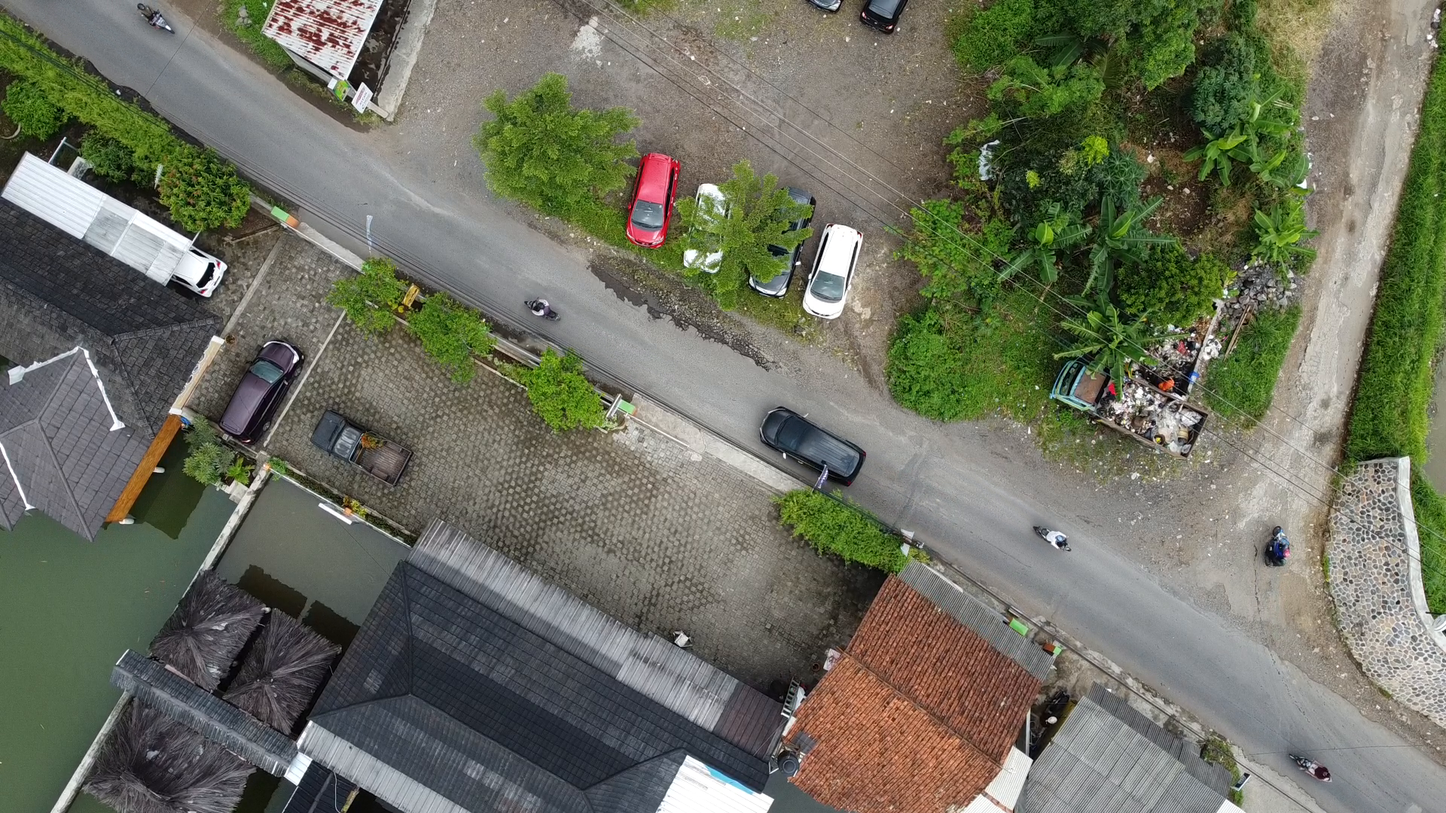mobil: (203, 330, 304, 453), (304, 385, 416, 492), (746, 389, 858, 492), (750, 171, 811, 315), (809, 214, 860, 335), (632, 129, 675, 266), (154, 233, 228, 298), (693, 173, 732, 294)
